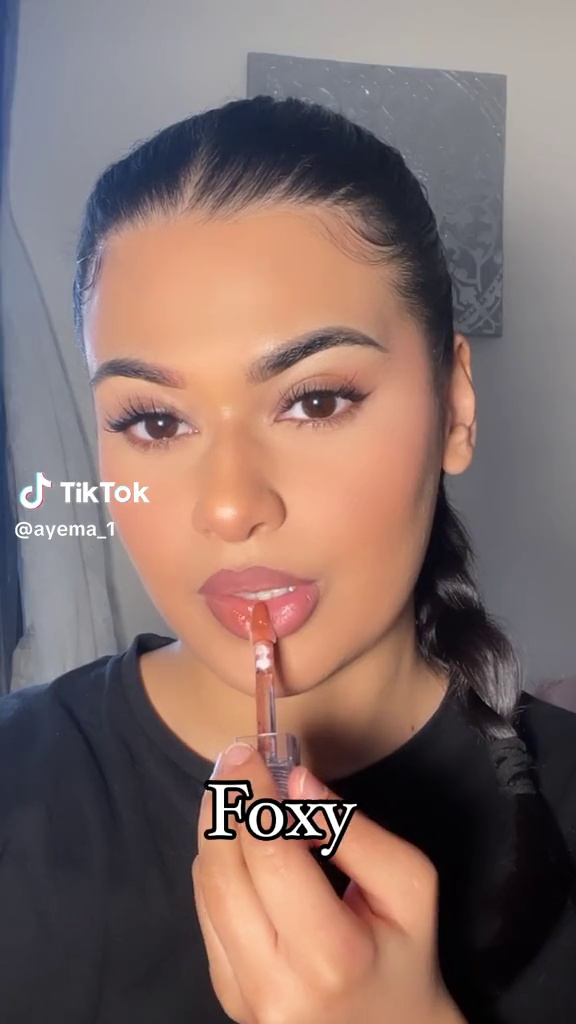train' :'yolo_data/train/images',: (224, 592, 323, 836)
